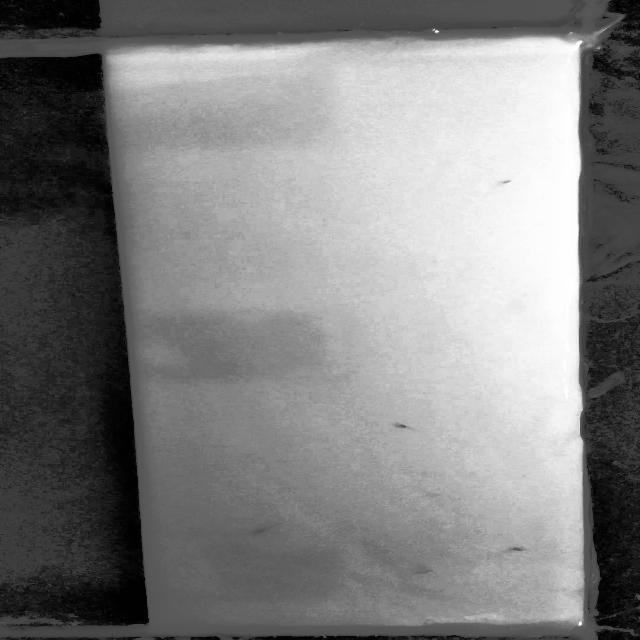shrimp: (385, 418, 420, 432), (242, 525, 274, 536), (507, 545, 532, 557), (408, 565, 437, 575), (493, 175, 517, 187)
